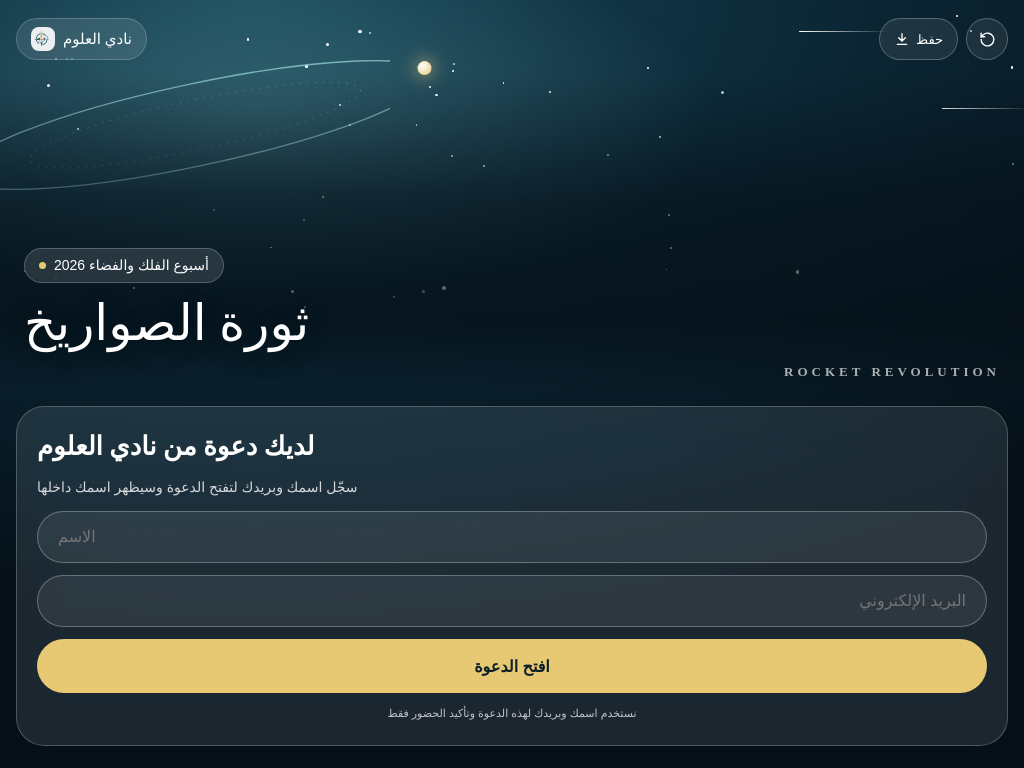
<Invitation> › keeps the gate open and shows the error when opening fails
This screenshot has width=1024, height=768.
Click the button "افتح الدعوة".
click(512, 666)  # box left=37, top=639, right=987, bottom=693
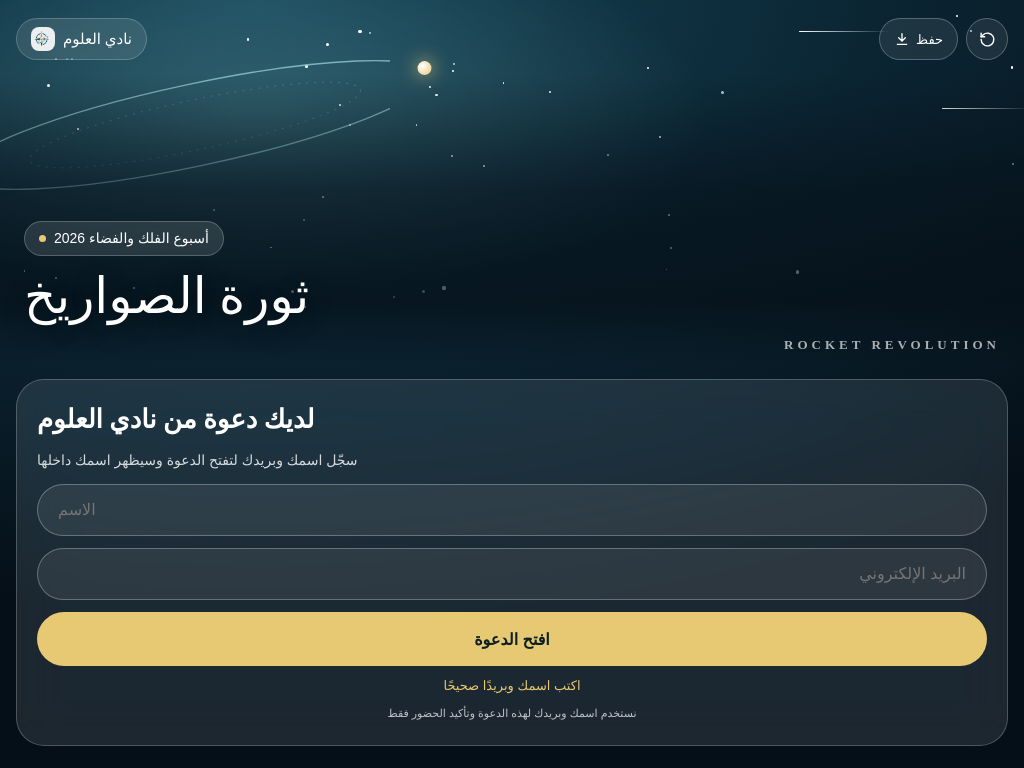
Expected: the field labelled "الاسم" is shown, left=37, top=484, right=987, bottom=536
Expected: the message reads "اكتب اسمك وبريدًا صحيحًا", left=443, top=678, right=580, bottom=693
